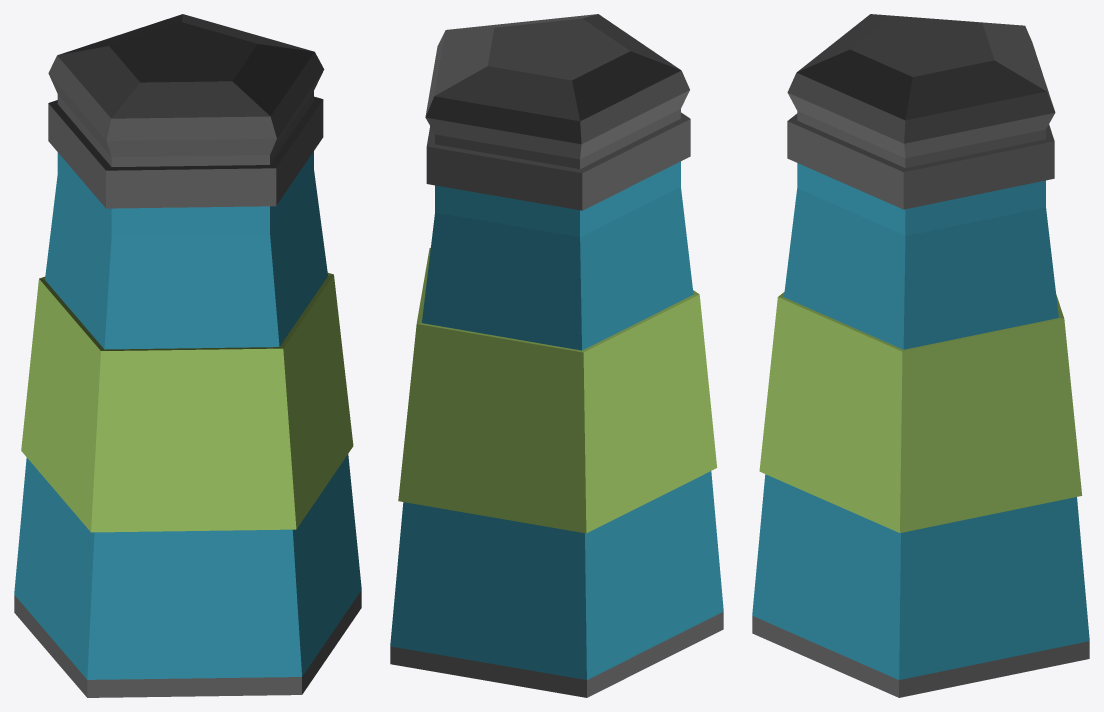
Rendered from Salt Shaker.fbx.
3 renders of one model, left to right at view 1: azimuth 30°, elevation 25°; view 2: azimuth 150°, elevation 25°; view 3: azimuth 270°, elevation 25°, orthographic.
Parts seen in each view (by area): view 1: Node 0; view 2: Node 0; view 3: Node 0.
Boxes of the visible parts, bbox=[...] form: Node 0: bbox=[14, 14, 361, 697]; Node 0: bbox=[390, 14, 723, 697]; Node 0: bbox=[752, 14, 1089, 697].
Bounding box in the file's own units: 0.0765 × 0.1436 × 0.077.
